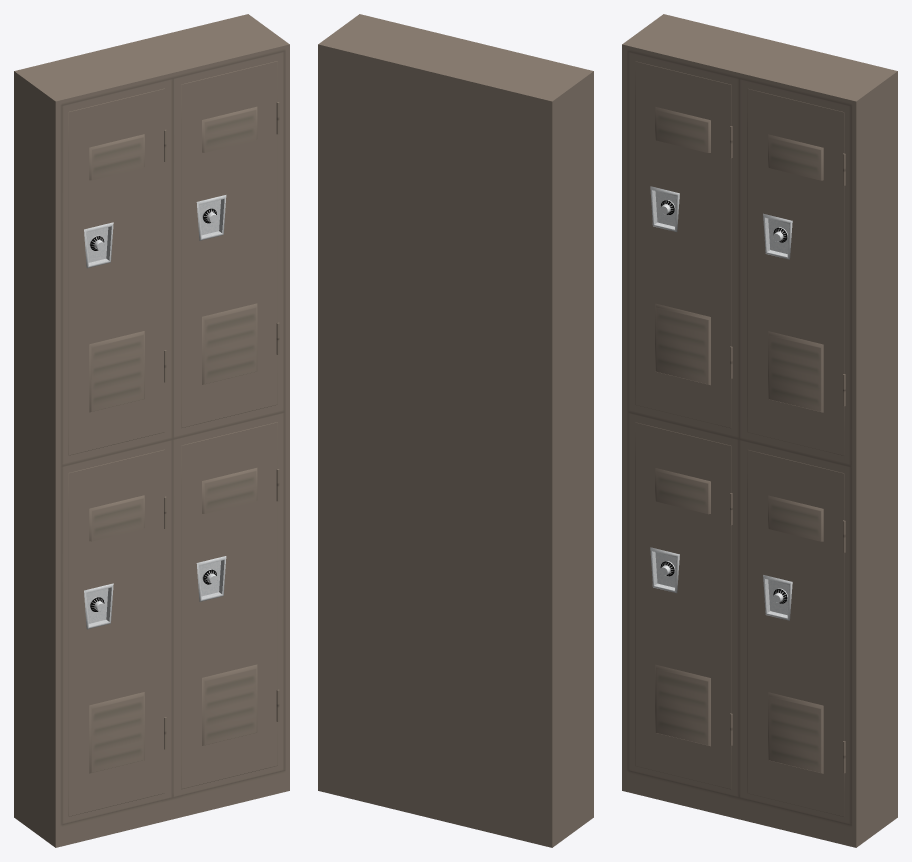
File: SchoolLocker01_2.FBX
3 renders of one model, left to right at view 1: azimuth 30°, elevation 25°; view 2: azimuth 150°, elevation 25°; view 3: azimuth 330°, elevation 25°, orthographic.
Visible parts, largest first — view 1: SchoolLocker01_2; view 2: SchoolLocker01_2; view 3: SchoolLocker01_2.
Part boxes in pixels (x1=…): SchoolLocker01_2: x1=14, y1=14, x2=289, y2=847; SchoolLocker01_2: x1=318, y1=14, x2=593, y2=847; SchoolLocker01_2: x1=622, y1=14, x2=897, y2=847.
Bounding box in the file's own units: 59.37 × 181 × 19.
